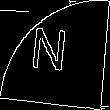N_S: (34, 28, 76, 82)
